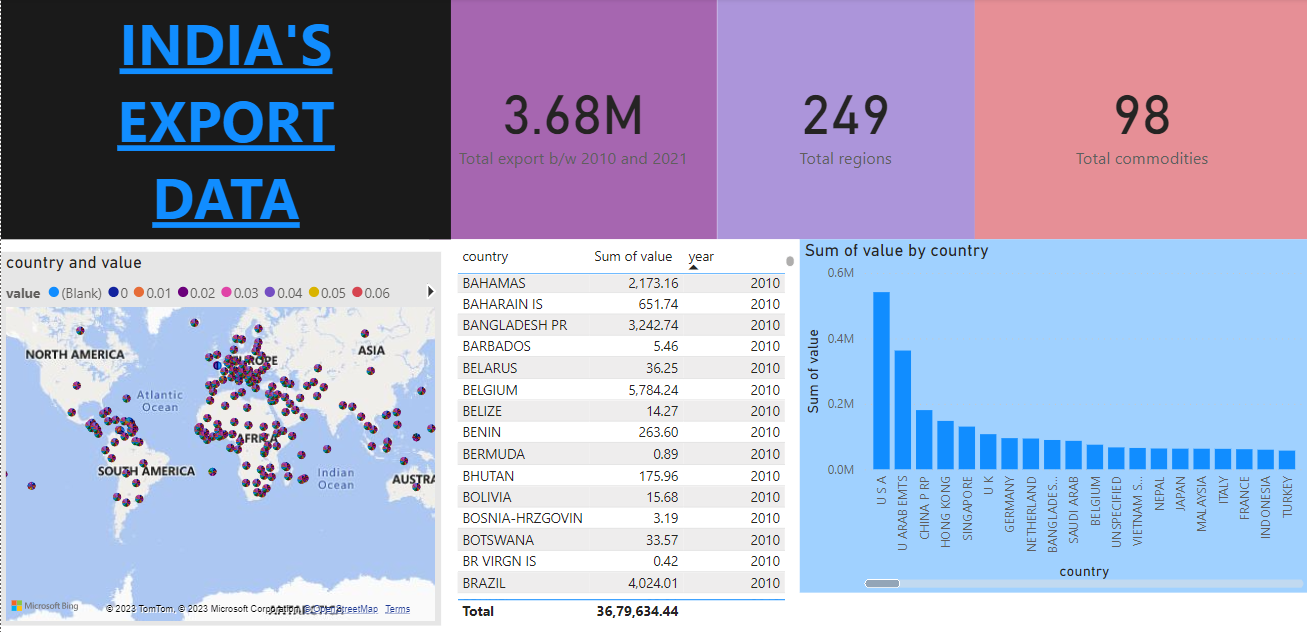

What the dashboard file says about the page in this screenshot:
{"tool":"powerbi","page":{"name":"Page 1","canvas":[1280,720],"ordinal":0},"visuals":[{"type":"card","fields":{"Values":["Sum(2010_2021_HS2_export.value)"]},"box":[419.3,0,281.2,235.9],"z":0},{"type":"card","fields":{"Values":["Count(2010_2021_HS2_export.country)"]},"box":[700.4,0,251.8,235.9],"z":1},{"type":"card","fields":{"Values":["Count(2010_2021_HS2_export.Commodity)"]},"box":[952.3,0,327.6,235.9],"z":2},{"type":"textbox","box":[0,0,440.1,235.9],"z":3},{"type":"tableEx","fields":{"Values":["2010_2021_HS2_export.country","Sum(2010_2021_HS2_export.value)","2010_2021_HS2_export.year"]},"box":[440.1,235.9,341.1,377.7],"z":4},{"type":"columnChart","fields":{"Category":["2010_2021_HS2_export.country"],"Y":["Sum(2010_2021_HS2_export.value)"]},"box":[781.1,235.9,498.7,345.9],"z":5},{"type":"map","fields":{"Category":["2010_2021_HS2_export.country"],"Series":["2010_2021_HS2_export.value"]},"box":[0,248.1,430.3,365.5],"z":6}]}

Visuals, with their boxes on the page's 1280x720 design canvas (x1, y1, x2, y2). These are canvas units, not pixel positions in the 1307x632 screenshot, which may show the page scaled, cropped or inside an application window:
card - Sum(2010_2021_HS2_export.value): {"left": 419, "top": 0, "right": 700, "bottom": 236}
card - Count(2010_2021_HS2_export.country): {"left": 700, "top": 0, "right": 952, "bottom": 236}
card - Count(2010_2021_HS2_export.Commodity): {"left": 952, "top": 0, "right": 1280, "bottom": 236}
textbox: {"left": 0, "top": 0, "right": 440, "bottom": 236}
tableEx - 2010_2021_HS2_export.country x Sum(2010_2021_HS2_export.value): {"left": 440, "top": 236, "right": 781, "bottom": 614}
columnChart - 2010_2021_HS2_export.country x Sum(2010_2021_HS2_export.value): {"left": 781, "top": 236, "right": 1280, "bottom": 582}
map - 2010_2021_HS2_export.country x 2010_2021_HS2_export.value: {"left": 0, "top": 248, "right": 430, "bottom": 614}
